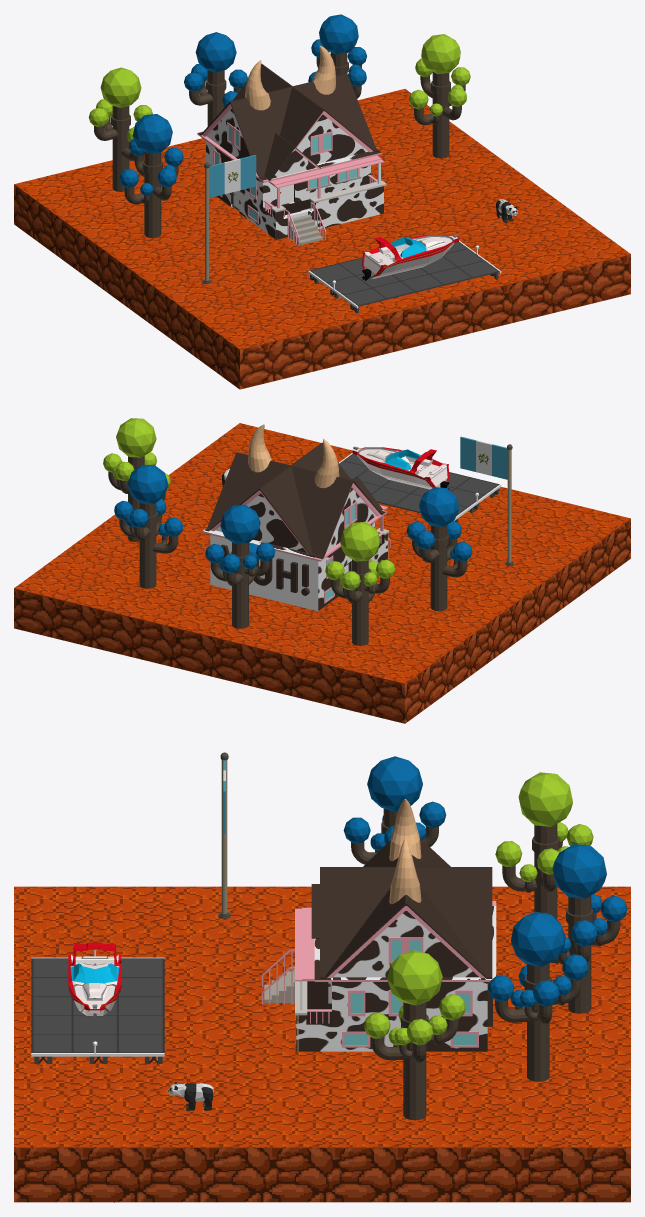
3 views of the same model, one above another, from view 1: azimuth 30°, elevation 25°; view 2: azimuth 150°, elevation 25°; view 3: azimuth 270°, elevation 25° (orthographic). The views are drawn at different scales.
Visible parts, largest first — view 1: Cube.001, Cube.1242, VEHICLES_BOAT, OBJRANDOM_GUATEMALAN_FLAG; view 2: Cube.001, Cube.1242, VEHICLES_BOAT, OBJRANDOM_GUATEMALAN_FLAG; view 3: Cube.001, Cube.1242, VEHICLES_BOAT, OBJRANDOM_GUATEMALAN_FLAG, ANIMAL_PANDA.
Part boxes in pixels (x1,y1,x2,y2): Cube.001: (14,14,630,389); Cube.1242: (197,45,386,246); VEHICLES_BOAT: (361,234,458,280); OBJRANDOM_GUATEMALAN_FLAG: (202,155,256,284); Cube.001: (14,418,630,723); Cube.1242: (202,424,390,610); VEHICLES_BOAT: (352,446,449,489); OBJRANDOM_GUATEMALAN_FLAG: (460,436,514,565); Cube.001: (14,756,630,1202); Cube.1242: (261,799,496,1051); VEHICLES_BOAT: (68,942,121,1017); OBJRANDOM_GUATEMALAN_FLAG: (218,752,230,918); ANIMAL_PANDA: (168,1082,213,1110).
Bounding box in the file's own units: 4000 × 1856 × 4000.
35 materials, 4 textured.
